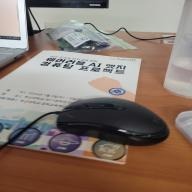mouse: (57, 96, 171, 146)
